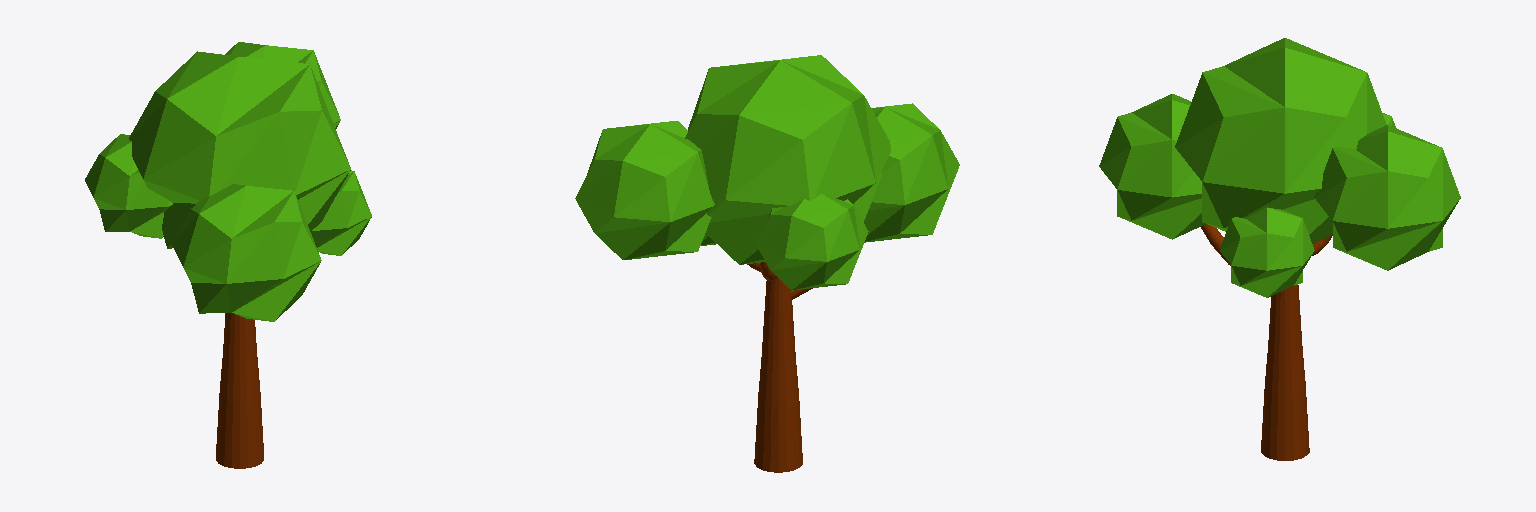
The model's file is arvore_lowpoly.obj.
3 views of the same model, side by side, from view 1: azimuth 30°, elevation 25°; view 2: azimuth 150°, elevation 25°; view 3: azimuth 270°, elevation 25° (orthographic).
Parts seen in each view (by area): view 1: Box009, Box010, Cylinder006, Box008, Box007, Box011; view 2: Box009, Box011, Box010, Box008, Cylinder006; view 3: Box009, Box011, Box010, Cylinder006, Box007.
Part boxes in pixels (left/top/right/bottom): Box009: left=129, top=51, right=350, bottom=248; Box010: left=172, top=184, right=321, bottom=321; Cylinder006: left=216, top=313, right=263, bottom=468; Box008: left=85, top=134, right=172, bottom=238; Box007: left=311, top=170, right=371, bottom=255; Box011: left=225, top=42, right=340, bottom=128; Box009: left=685, top=55, right=890, bottom=264; Box011: left=575, top=121, right=714, bottom=259; Box010: left=864, top=103, right=959, bottom=242; Box008: left=756, top=194, right=868, bottom=290; Cylinder006: left=754, top=277, right=802, bottom=472; Box009: left=1175, top=38, right=1386, bottom=243; Box011: left=1314, top=125, right=1460, bottom=270; Box010: left=1099, top=94, right=1205, bottom=239; Cylinder006: left=1261, top=285, right=1309, bottom=460; Box007: left=1220, top=207, right=1314, bottom=297.
Bounding box in the file's own units: 4.01 × 6.05 × 4.93.